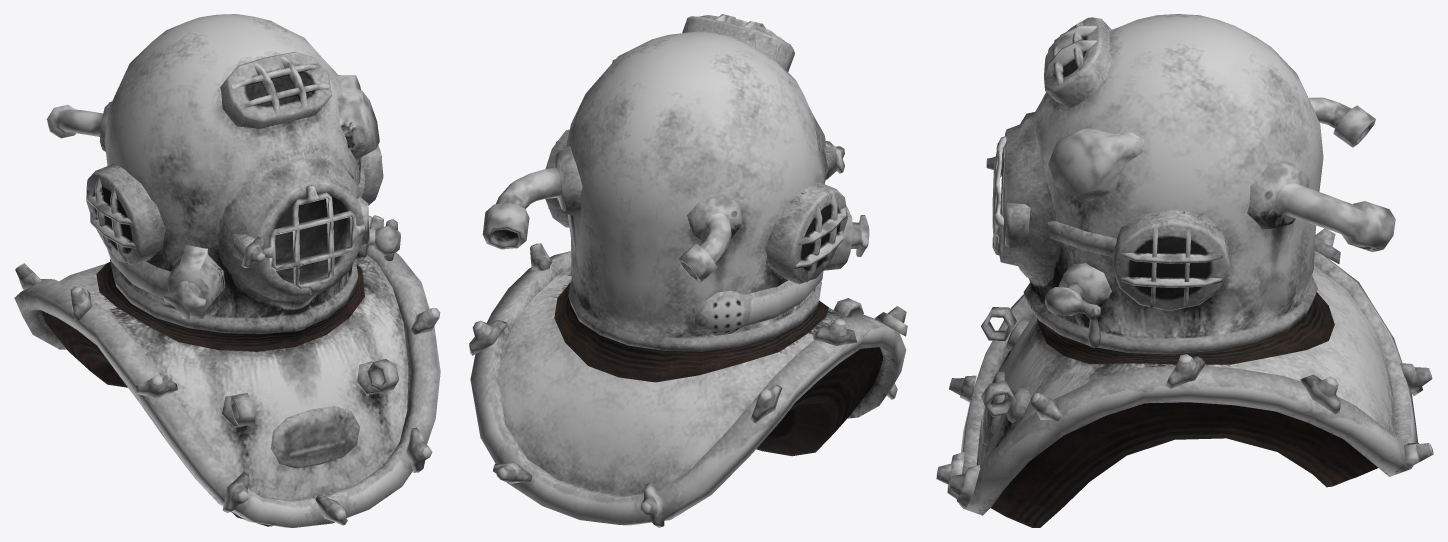
File: SurvivorMale_Head_Helmet_DeepSeaDiving_LOD0.glb
3 renders of one model, left to right at view 1: azimuth 30°, elevation 25°; view 2: azimuth 150°, elevation 25°; view 3: azimuth 270°, elevation 25°, orthographic. The views are drawn at different scales.
Parts seen in each view (by area): view 1: Hoodie; view 2: Hoodie; view 3: Hoodie.
Part boxes in pixels (x1=…): Hoodie: x1=14, y1=14, x2=440, y2=527; Hoodie: x1=469, y1=14, x2=907, y2=527; Hoodie: x1=936, y1=14, x2=1433, y2=527.
Bounding box in the file's own units: 0.3525 × 0.4737 × 0.4381.
Materials: 1 (1 with a texture image).
